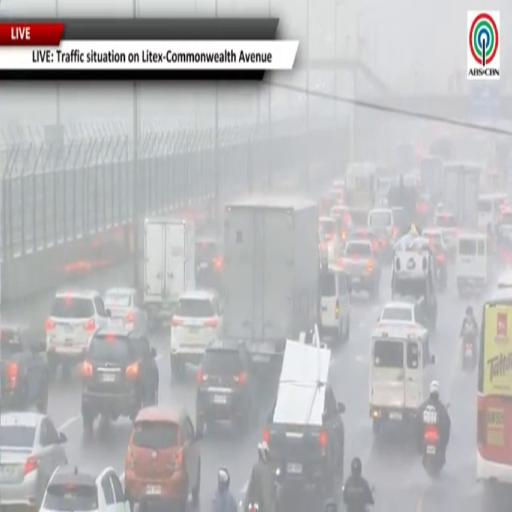bus: (477, 290, 511, 484), (346, 163, 377, 211)
car: (263, 341, 344, 510), (81, 327, 158, 436), (125, 407, 202, 511), (0, 411, 67, 509), (196, 342, 257, 434), (45, 290, 110, 376), (170, 291, 222, 378), (0, 325, 49, 412), (40, 466, 129, 511), (339, 240, 381, 298), (320, 266, 350, 343), (104, 287, 148, 334), (195, 235, 224, 292), (422, 228, 448, 290), (368, 208, 398, 259), (378, 301, 425, 325), (433, 212, 458, 255), (319, 217, 341, 262), (350, 228, 381, 258), (330, 205, 351, 243), (498, 271, 511, 290)
motorcycle: (422, 421, 444, 477), (462, 335, 476, 372), (436, 254, 447, 292), (248, 504, 258, 511), (371, 486, 375, 497)
truck: (224, 197, 320, 364), (143, 218, 195, 324), (443, 163, 482, 229), (420, 155, 443, 203)
